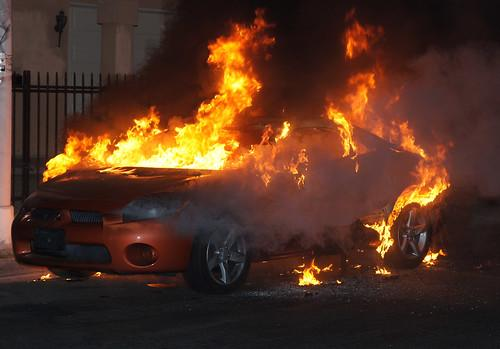fire: (41, 120, 310, 191), (195, 6, 275, 120), (383, 87, 458, 208), (326, 21, 380, 173), (366, 214, 396, 278), (294, 258, 333, 290), (422, 247, 445, 268)
smoke: (130, 173, 363, 247), (71, 5, 200, 122), (382, 44, 498, 134), (365, 141, 405, 210), (457, 134, 500, 196)
